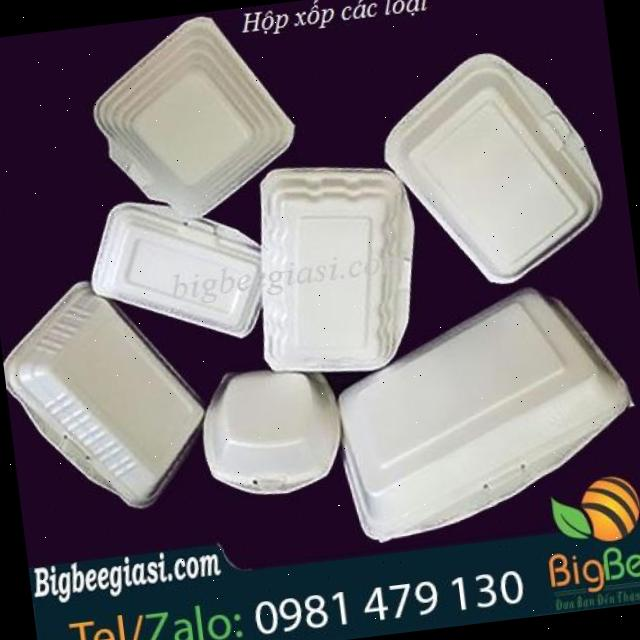styrofoam: (0, 0, 640, 585), (322, 274, 640, 545), (371, 37, 612, 296), (0, 266, 216, 522), (80, 4, 304, 229), (238, 150, 431, 384)
